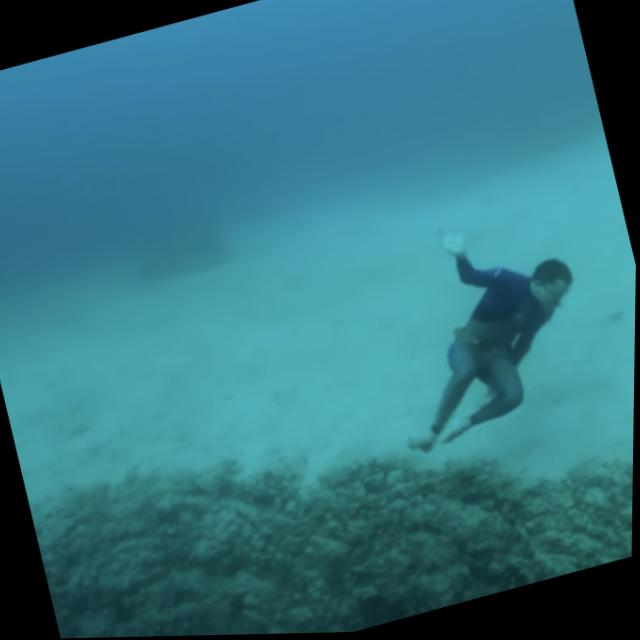human: (357, 197, 615, 469)
